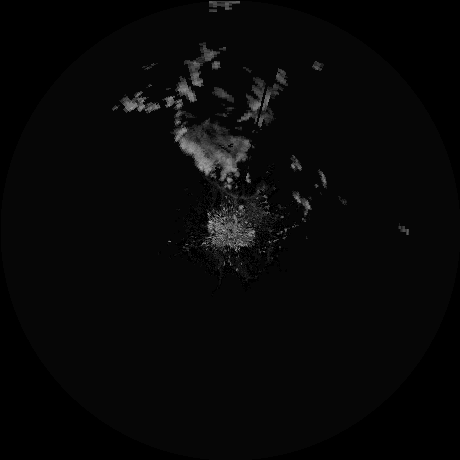frontgust: (216, 182, 265, 200)
